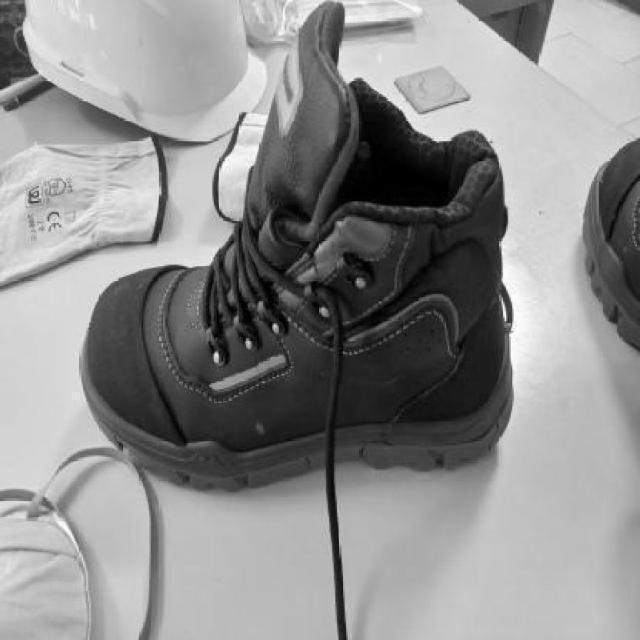helmet_white: (79, 0, 515, 483)
